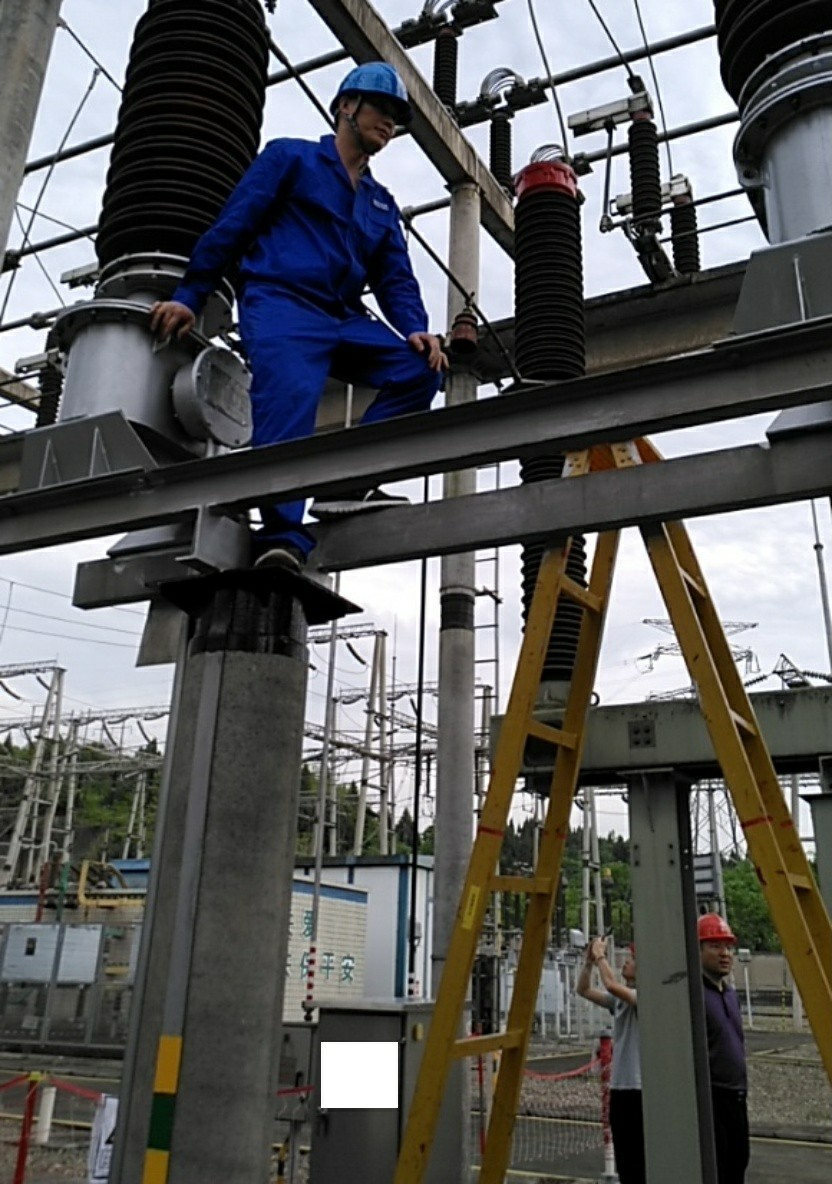hat: (327, 60, 408, 161), (693, 909, 741, 983)
